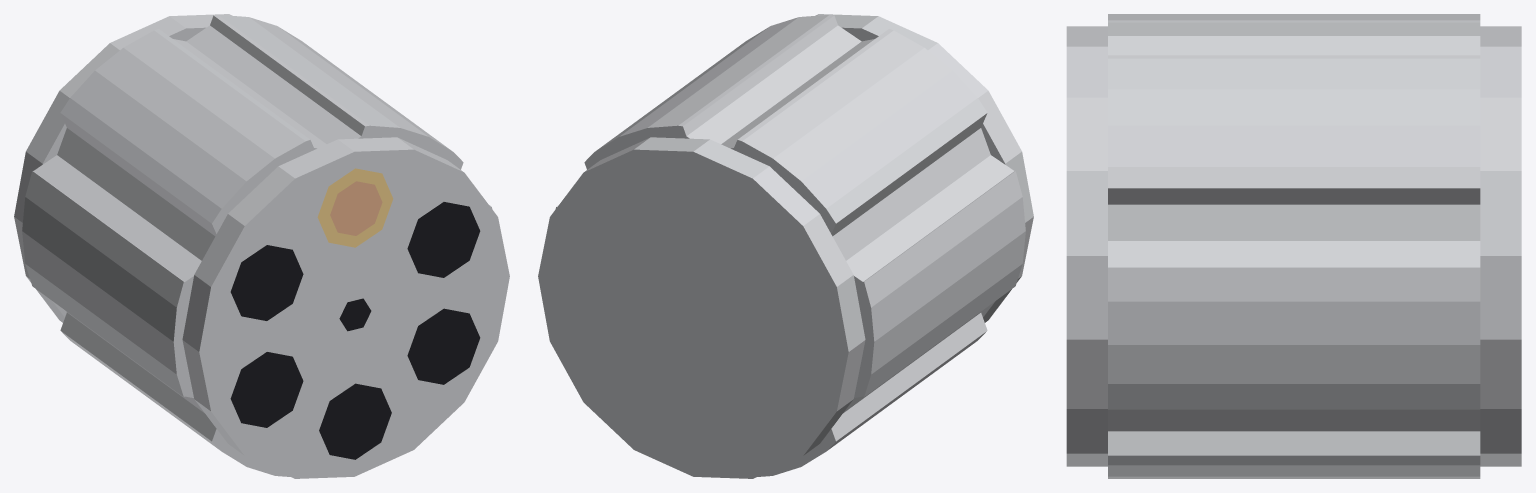
The model's file is tb_rev4_cyl.glb.
3 renders of one model, left to right at view 1: azimuth 30°, elevation 25°; view 2: azimuth 150°, elevation 25°; view 3: azimuth 270°, elevation 25°, orthographic. The views are drawn at different scales.
Parts seen in each view (by area): view 1: tb_rev4_cyl_nickel, tb_rev4_cyl_dark, tb_rev4_cyl_brass, tb_rev4_cyl_copper; view 2: tb_rev4_cyl_nickel; view 3: tb_rev4_cyl_nickel.
Part boxes in pixels (x1,y1,x2,y2): tb_rev4_cyl_nickel: (14,14,509,478); tb_rev4_cyl_dark: (230,202,480,459); tb_rev4_cyl_brass: (317,168,393,247); tb_rev4_cyl_copper: (330,181,382,235); tb_rev4_cyl_nickel: (538,14,1033,478); tb_rev4_cyl_nickel: (1066,14,1521,478).
Size of the model in its own units: 0.045 by 0.0443 by 0.0444.
